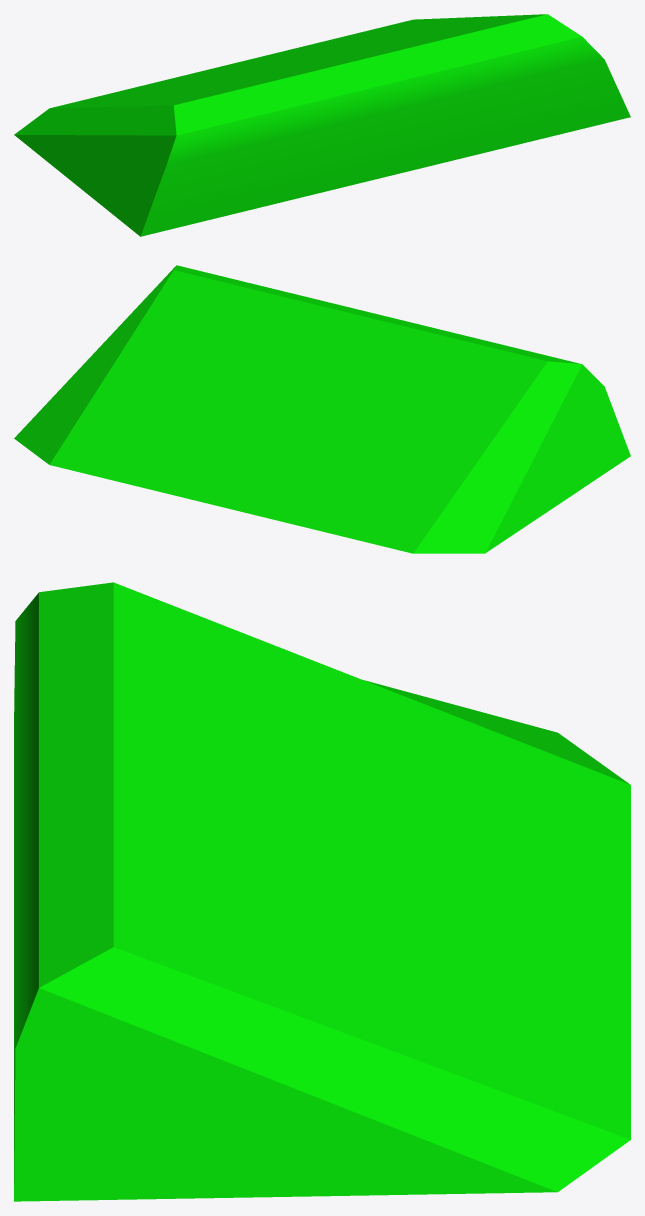
The model's file is Slope 1.fbx.
The picture shows the model from 3 angles, top to bottom: view 1: azimuth 30°, elevation 25°; view 2: azimuth 150°, elevation 25°; view 3: azimuth 270°, elevation 25°; orthographic projection. The views are drawn at different scales.
Parts seen in each view (by area): view 1: Slope_1; view 2: Slope_1; view 3: Slope_1.
Part boxes in pixels (left/top/right/bottom): Slope_1: left=14, top=14, right=630, bottom=236; Slope_1: left=14, top=265, right=630, bottom=553; Slope_1: left=14, top=582, right=630, bottom=1201.
Size of the model in its own units: 1083 by 209 by 590.
